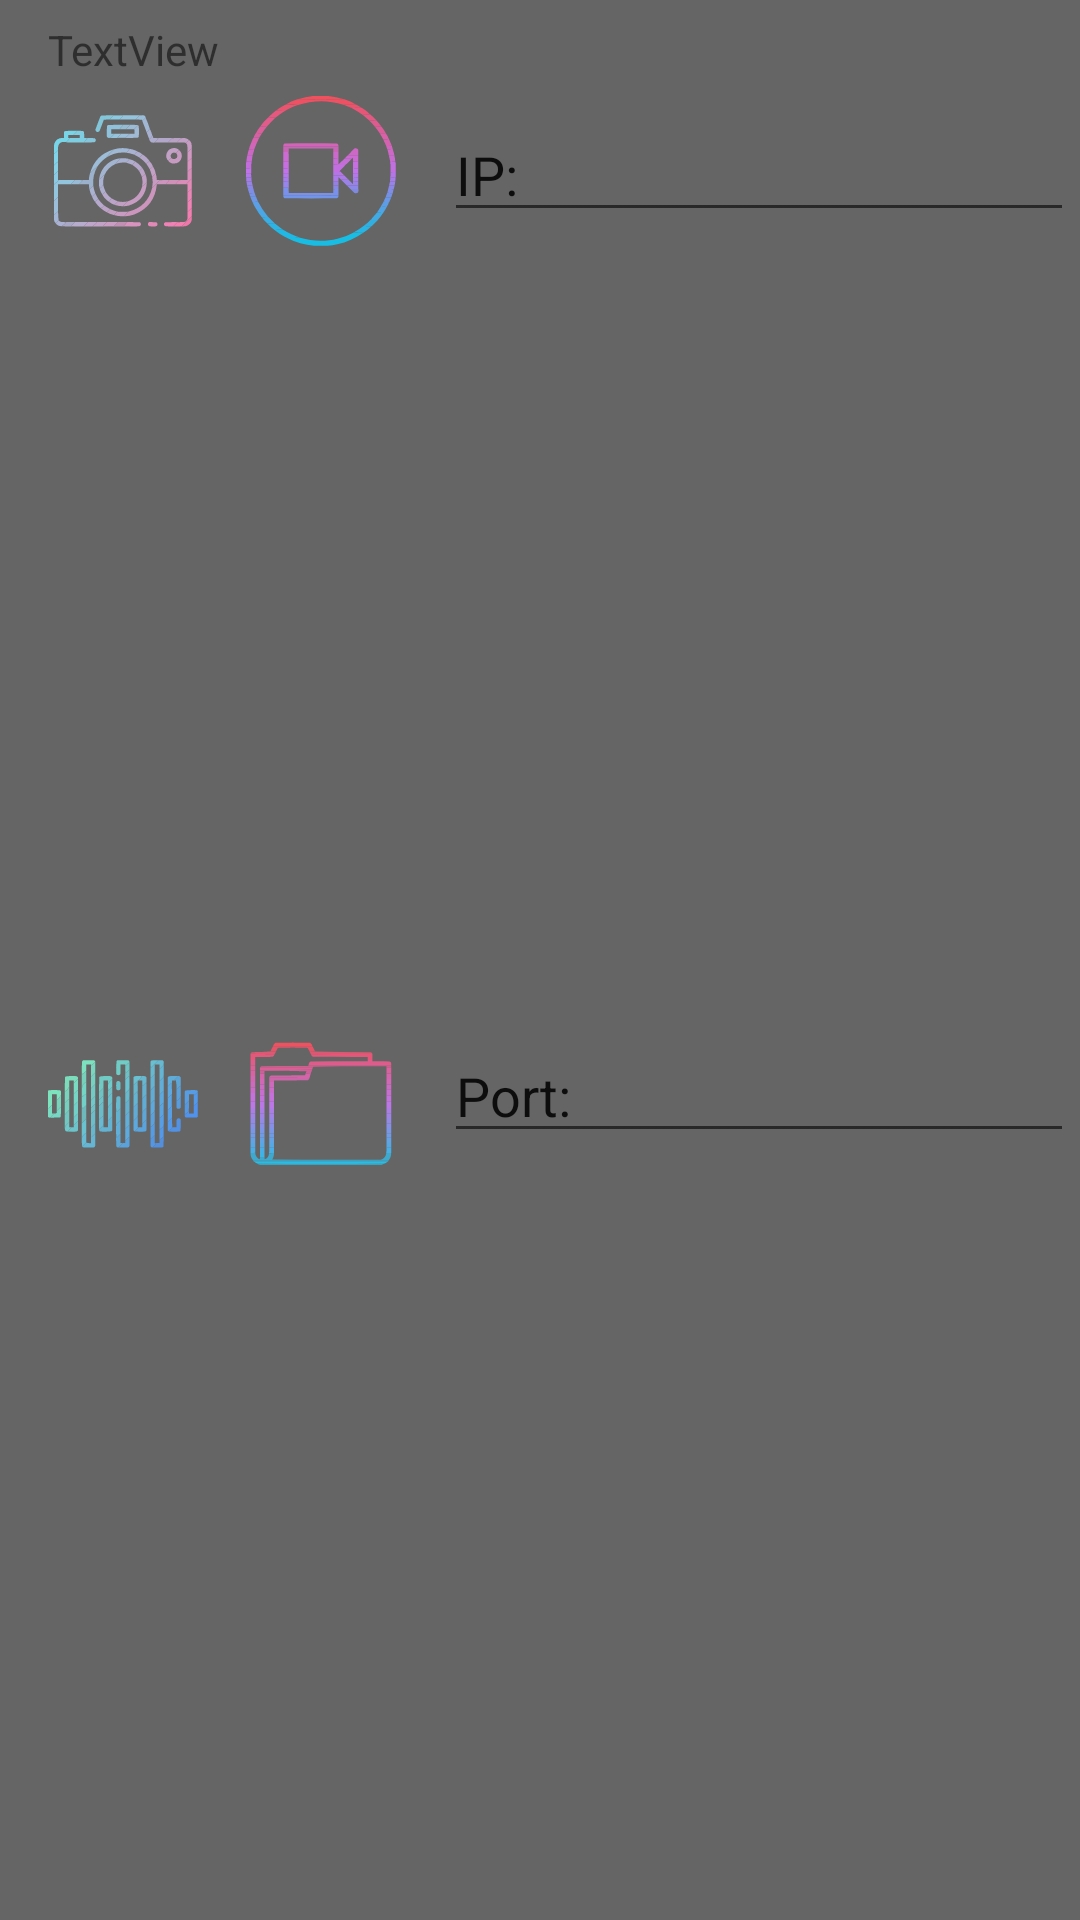

Named icons in this screenshot (1080×1920) and their centers, point (x, y):
audio waves: point (123, 1104)
photo camera: point (123, 171)
video player: point (321, 171)
